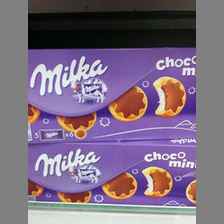chocolate: (28, 49, 195, 142), (28, 143, 196, 209)
